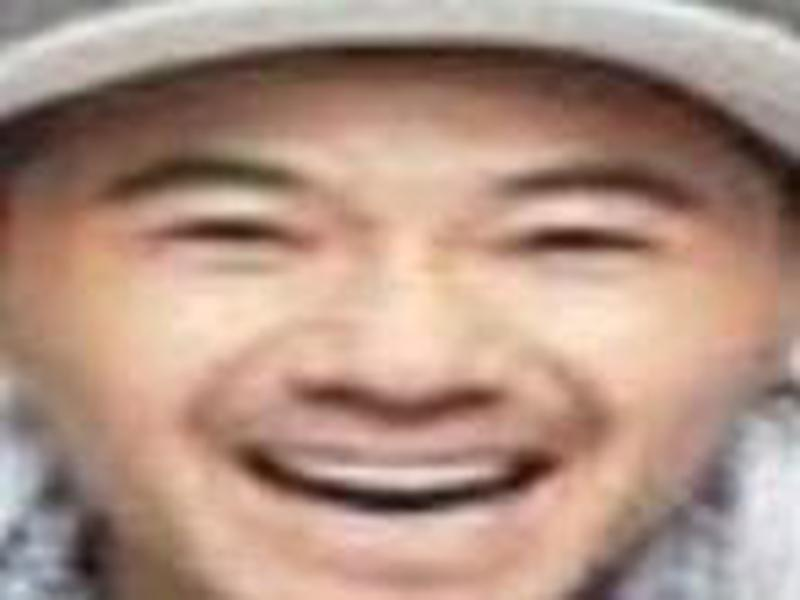without_mask: (10, 93, 795, 600)
